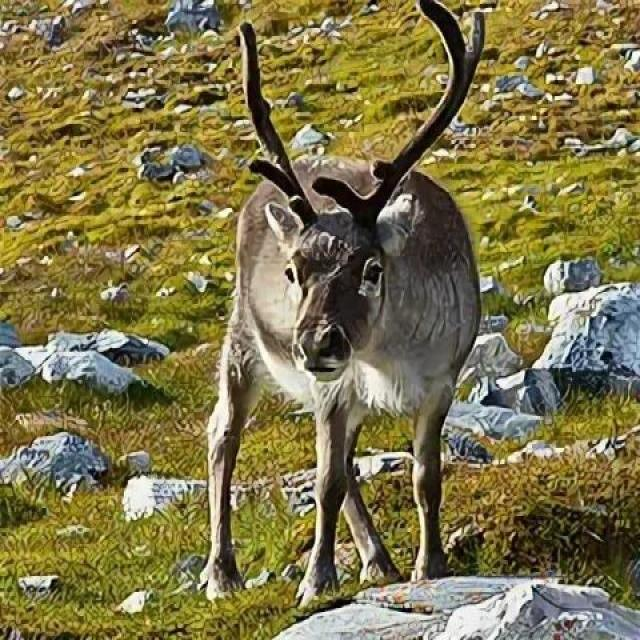deer: (98, 0, 635, 595)
